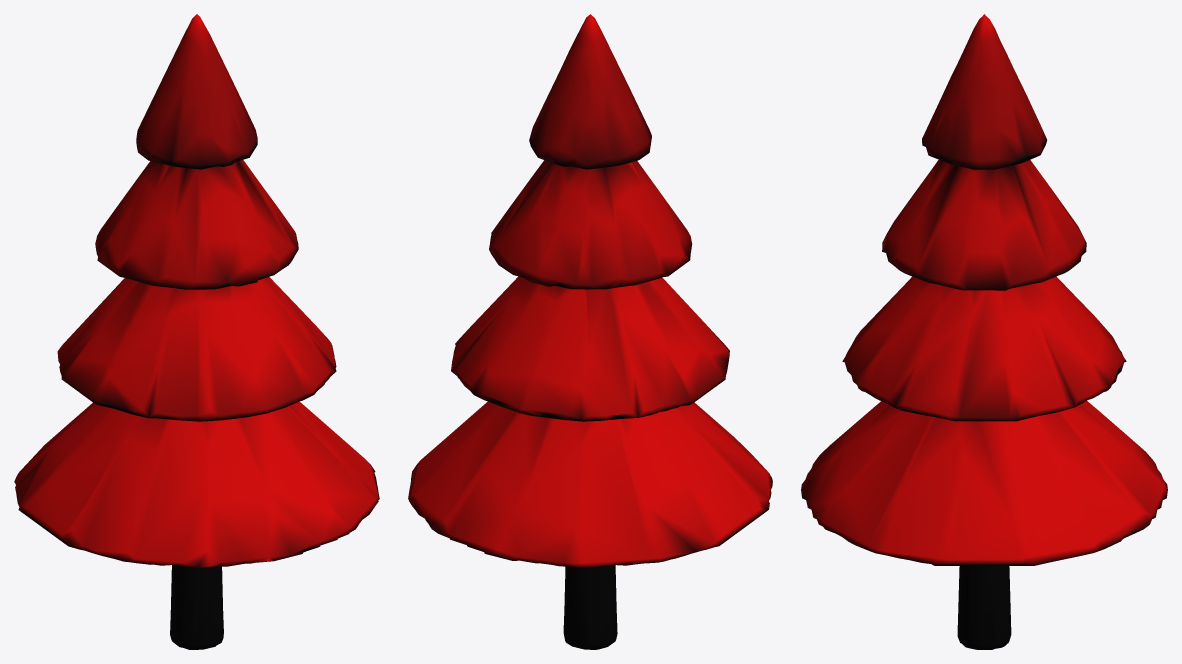
Rendered from bg-frost-c.glb.
The picture shows the model from 3 angles, left to right: view 1: azimuth 30°, elevation 25°; view 2: azimuth 150°, elevation 25°; view 3: azimuth 270°, elevation 25°; orthographic projection.
Parts seen in each view (by area): view 1: crown, trunk; view 2: crown, trunk; view 3: crown, trunk.
Boxes of the visible parts, bbox=[...] form: crown: bbox=[14, 14, 379, 567]; trunk: bbox=[170, 565, 223, 649]; crown: bbox=[408, 14, 772, 567]; trunk: bbox=[563, 565, 617, 649]; crown: bbox=[801, 14, 1167, 565]; trunk: bbox=[957, 566, 1011, 649].
Size of the model in its own units: 4.37 by 8.45 by 4.49.
